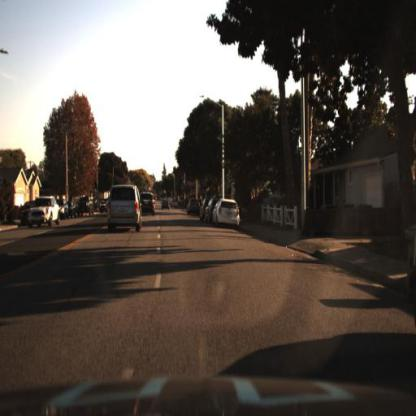car: (102, 182, 140, 235), (213, 197, 240, 229), (77, 192, 93, 218), (76, 196, 94, 218), (202, 196, 214, 224), (19, 200, 34, 222), (142, 190, 156, 213), (184, 197, 199, 217), (95, 194, 109, 215), (56, 197, 68, 221), (67, 194, 77, 220), (196, 197, 204, 221), (160, 197, 168, 213)
